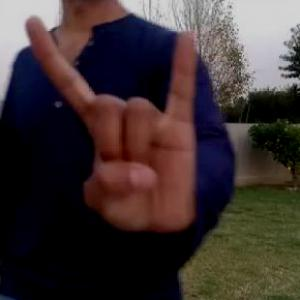takeoff-hand: (14, 8, 208, 242)
